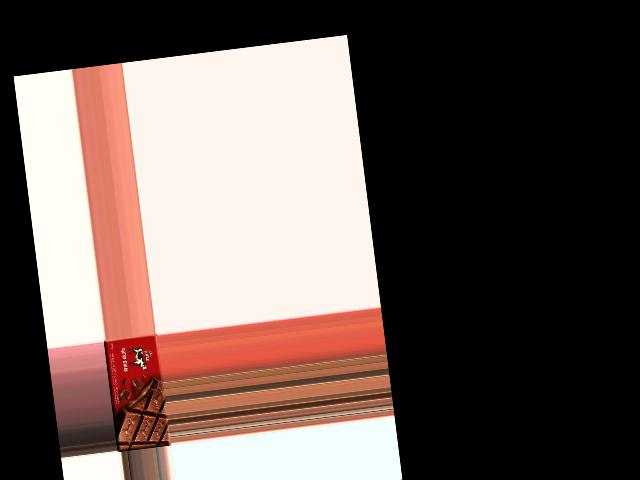chocolate: (104, 333, 170, 450)
